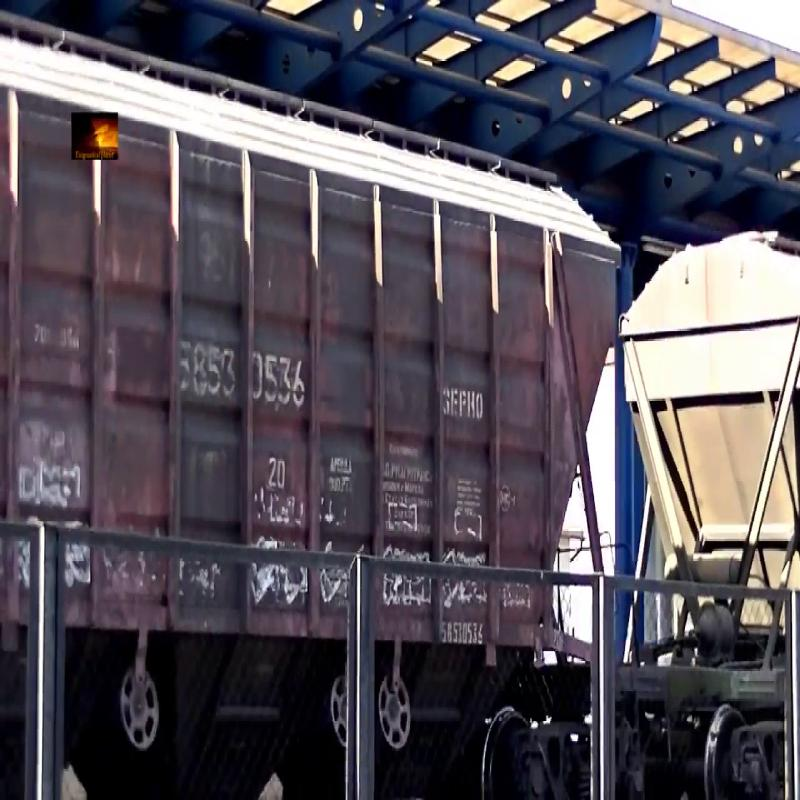train: (3, 22, 648, 771), (671, 22, 800, 770)
